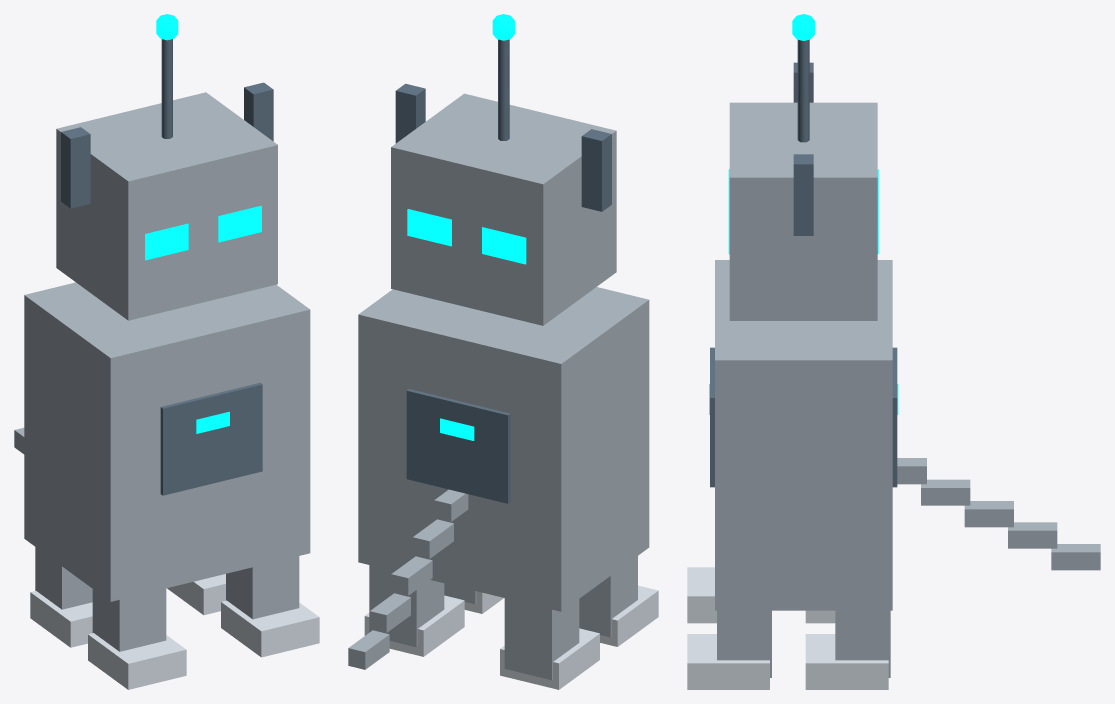
Rendered from cat-robot.glb.
3 renders of one model, left to right at view 1: azimuth 30°, elevation 25°; view 2: azimuth 150°, elevation 25°; view 3: azimuth 270°, elevation 25°, orthographic. The views are drawn at different scales.
Parts seen in each view (by area): view 1: body, head, chest, leg--0.40.3, foot-0.40.3, foot--0.40.3, leg-0.40.3, ear-l, foot--0.4-0.3, leg--0.4-0.3, foot-0.4-0.3, ear-r (+5 smaller); view 2: body, head, chest, leg--0.4-0.3, leg-0.4-0.3, leg--0.40.3, ear-l, foot--0.4-0.3, foot-0.4-0.3, foot--0.40.3, ear-r, eye-l (+10 smaller); view 3: body, head, foot-0.4-0.3, foot-0.40.3, leg-0.4-0.3, leg-0.40.3, ear-r, foot--0.40.3, chest, antenna, tail-4, tail-2 (+3 smaller).
Part boxes in pixels (left/top/right/bottom): body: left=24, top=282, right=310, bottom=601; head: left=56, top=92, right=277, bottom=320; chest: left=160, top=382, right=262, bottom=495; leg--0.40.3: left=92, top=588, right=166, bottom=651; foot-0.40.3: left=221, top=600, right=319, bottom=657; foot--0.40.3: left=88, top=633, right=186, bottom=689; leg-0.40.3: left=226, top=556, right=299, bottom=619; ear-l: left=61, top=127, right=90, bottom=208; foot--0.4-0.3: left=30, top=591, right=92, bottom=647; leg--0.4-0.3: left=35, top=547, right=92, bottom=609; foot-0.4-0.3: left=167, top=574, right=225, bottom=615; ear-r: left=244, top=82, right=273, bottom=141; body: left=358, top=287, right=649, bottom=611; head: left=391, top=93, right=616, bottom=325; chest: left=406, top=389, right=510, bottom=503; leg--0.4-0.3: left=504, top=598, right=579, bottom=680; leg-0.4-0.3: left=369, top=565, right=444, bottom=647; leg--0.40.3: left=579, top=556, right=637, bottom=637; ear-l: left=581, top=129, right=611, bottom=211; foot--0.4-0.3: left=500, top=628, right=599, bottom=689; foot-0.4-0.3: left=364, top=595, right=464, bottom=656; foot--0.40.3: left=600, top=585, right=658, bottom=646; ear-r: left=395, top=83, right=425, bottom=143; eye-l: left=482, top=227, right=526, bottom=264; body: left=715, top=260, right=892, bottom=610; head: left=729, top=102, right=877, bottom=320; foot-0.4-0.3: left=805, top=634, right=888, bottom=689; foot-0.40.3: left=687, top=634, right=769, bottom=689; leg-0.4-0.3: left=835, top=610, right=890, bottom=677; leg-0.40.3: left=717, top=610, right=771, bottom=677; ear-r: left=793, top=154, right=813, bottom=235; foot--0.40.3: left=687, top=567, right=716, bottom=623; chest: left=710, top=347, right=897, bottom=487; antenna: left=797, top=39, right=809, bottom=142; tail-4: left=1051, top=544, right=1100, bottom=570; tail-2: left=964, top=501, right=1013, bottom=527.
Size of the model in its own units: 1.22 by 3.51 by 2.09.
